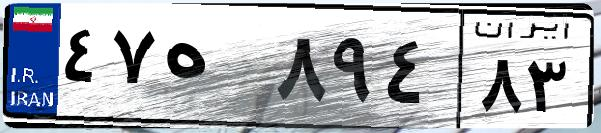3: (525, 38, 570, 115)
4: (385, 28, 445, 110), (57, 26, 110, 100)
7: (110, 28, 158, 98)
8: (270, 28, 330, 110), (475, 38, 525, 113)
9: (330, 28, 385, 110)
ه: (158, 20, 270, 120)
